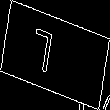L_S: (41, 27, 69, 83)
